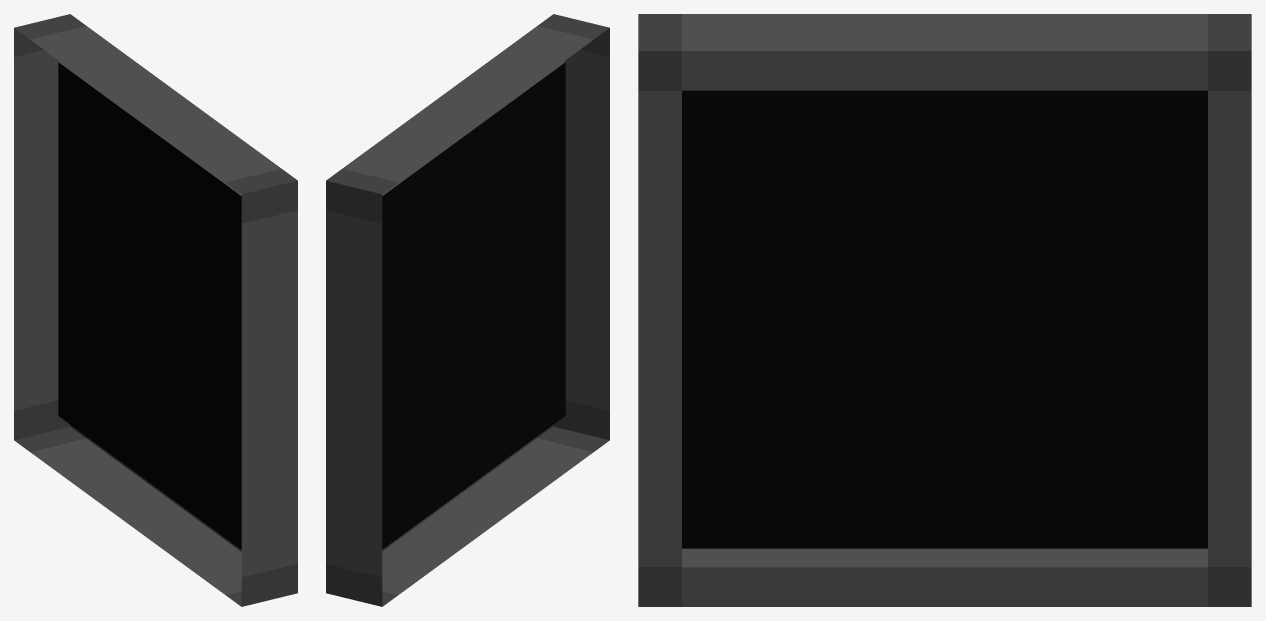
Rendered from terminal.obj.
3 renders of one model, left to right at view 1: azimuth 30°, elevation 25°; view 2: azimuth 150°, elevation 25°; view 3: azimuth 270°, elevation 25°, orthographic. The views are drawn at different scales.
Parts seen in each view (by area): view 1: Base; view 2: Base; view 3: Base.
Part boxes in pixels (x1,y1,x2,y2): Base: [14, 14, 297, 606]; Base: [326, 14, 609, 606]; Base: [638, 14, 1251, 606].
Bounding box in the file's own units: 0.125 × 0.875 × 0.875.
